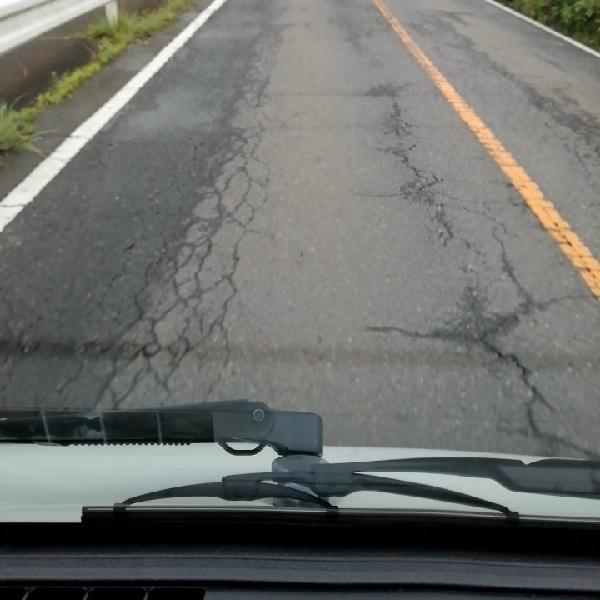D20: (331, 40, 594, 455), (37, 87, 290, 418)
